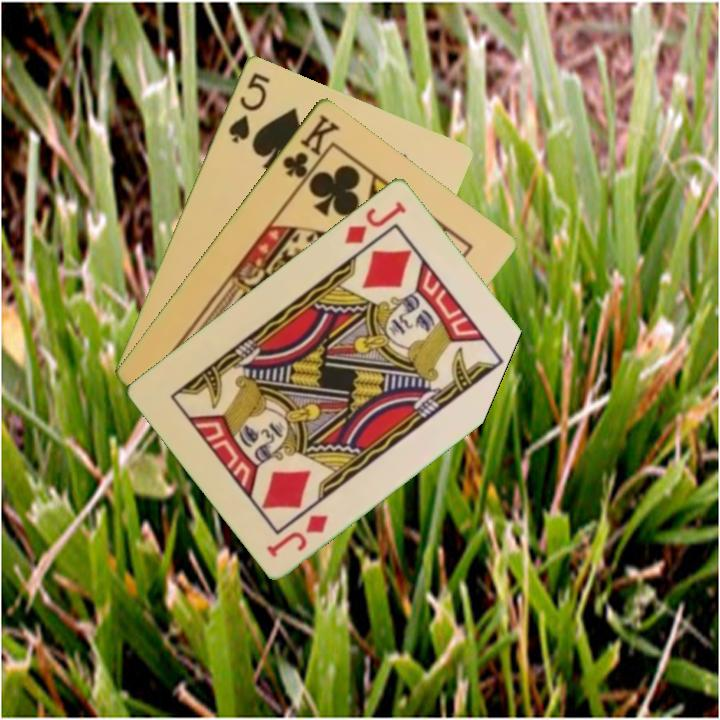5s: (225, 68, 273, 146)
Jd: (340, 197, 409, 247), (263, 510, 331, 560)
Kc: (278, 110, 343, 190)
